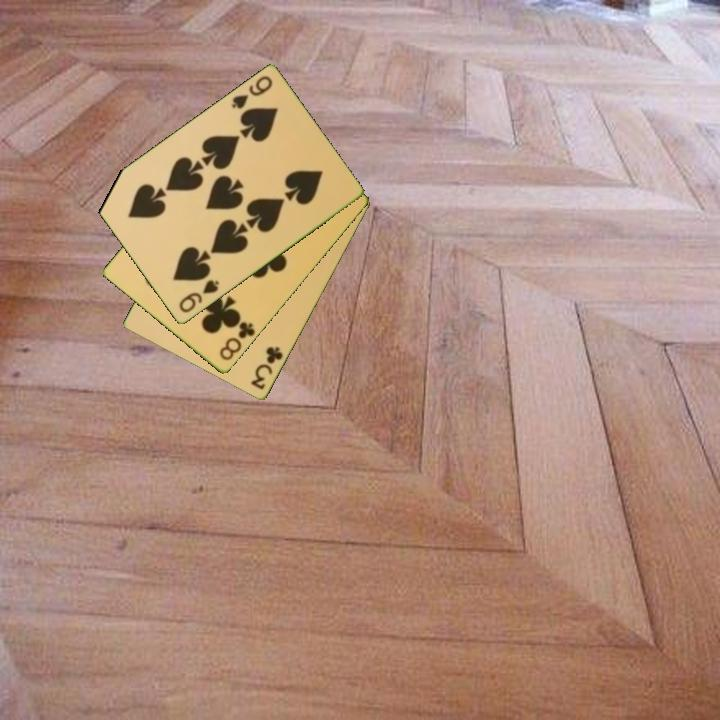3c: (247, 343, 286, 393)
8c: (216, 318, 258, 364)
9s: (175, 276, 222, 316), (228, 72, 275, 112)
